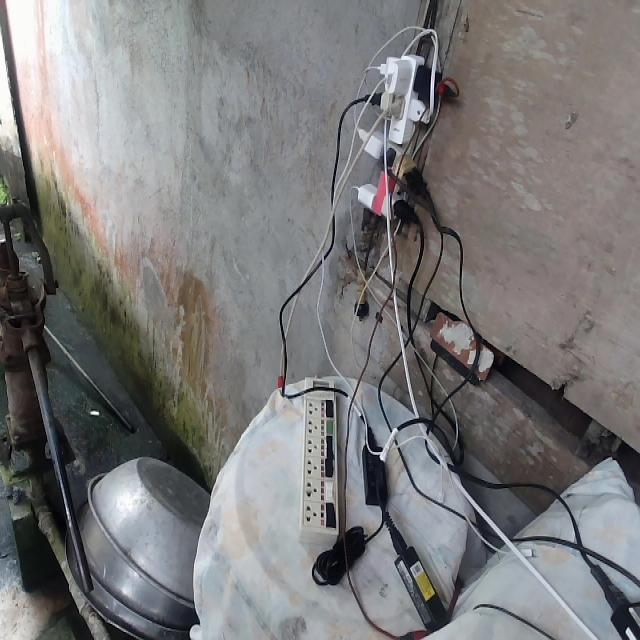-: (352, 49, 445, 220)
